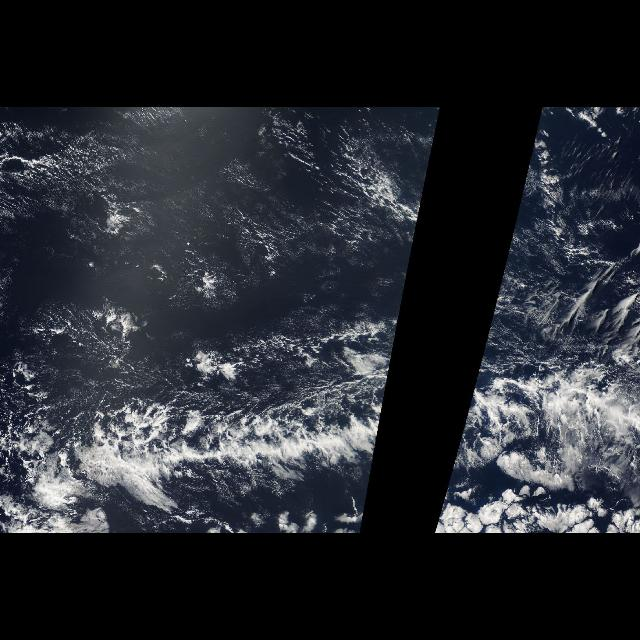Fish: (4, 323, 400, 509), (441, 323, 639, 509)
Flower: (114, 498, 370, 532), (434, 498, 638, 532)
Sugar: (2, 114, 440, 324), (504, 114, 600, 268)
